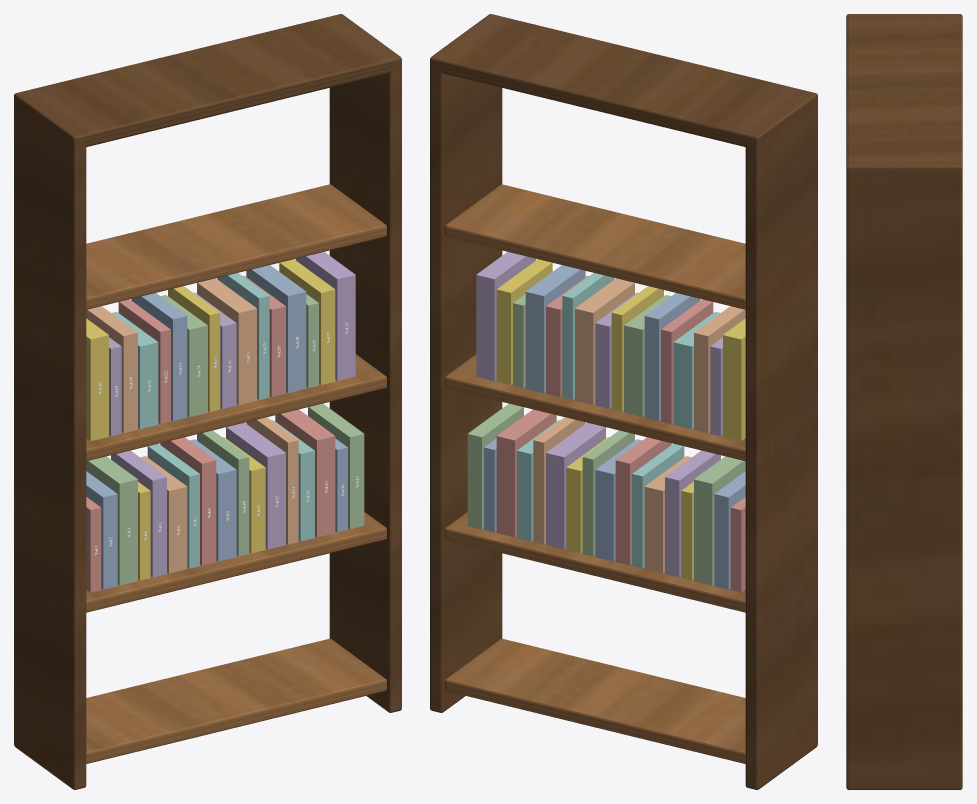
The model's file is bookshelf.glb.
3 renders of one model, left to right at view 1: azimuth 30°, elevation 25°; view 2: azimuth 150°, elevation 25°; view 3: azimuth 270°, elevation 25°, orthographic. The views are drawn at different scales.
Parts seen in each view (by area): view 1: sideL.002, sideR.001, top.004, shelf3, shelf0, shelf2, shelf1, part_book_14__bookshelf, part_book_29__bookshelf, part_book_26__bookshelf, part_book_11__bookshelf, part_book_32__bookshelf (+28 smaller); view 2: sideL.002, sideR.001, top.004, shelf3, shelf0, shelf2, shelf1, part_book_14__bookshelf, part_book_29__bookshelf, part_book_26__bookshelf, part_book_11__bookshelf, part_book_32__bookshelf (+28 smaller); view 3: sideR.001, top.004.
Boxes of the visible parts, x1,y1,x2,y2 form: sideL.002: [14, 91, 86, 789]; sideR.001: [329, 46, 401, 712]; top.004: [14, 14, 401, 147]; shelf3: [86, 184, 386, 309]; shelf0: [86, 638, 386, 763]; shelf2: [86, 354, 386, 461]; shelf1: [86, 512, 386, 612]; part_book_14__bookshelf: [275, 409, 335, 537]; part_book_29__bookshelf: [246, 265, 306, 392]; part_book_26__bookshelf: [197, 278, 256, 404]; part_book_11__bookshelf: [226, 422, 285, 549]; part_book_32__bookshelf: [295, 252, 355, 380]; sideL.002: [745, 91, 817, 789]; sideR.001: [430, 56, 502, 712]; top.004: [430, 14, 817, 147]; shelf3: [445, 184, 745, 309]; shelf0: [445, 638, 745, 763]; shelf2: [445, 354, 745, 461]; shelf1: [445, 512, 745, 612]; part_book_14__bookshelf: [496, 409, 556, 537]; part_book_29__bookshelf: [525, 265, 585, 392]; part_book_26__bookshelf: [575, 278, 634, 404]; part_book_11__bookshelf: [546, 422, 605, 549]; part_book_32__bookshelf: [476, 252, 536, 380]; sideR.001: [846, 161, 962, 789]; top.004: [846, 14, 962, 177].
Bounding box in the file's own units: 1 × 1.9 × 0.32.
Materials: 10 (2 with a texture image).
